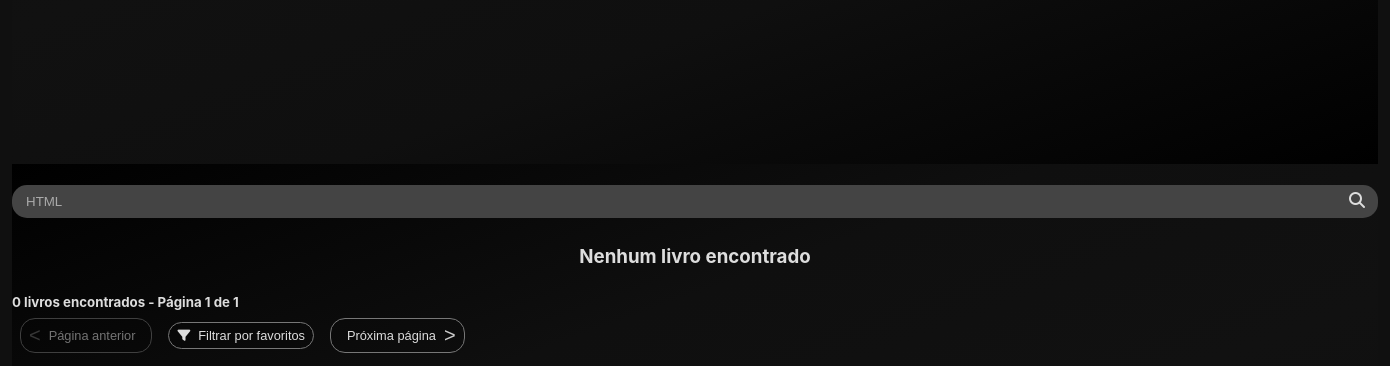
it: <BookList /> › Layout › deve mostrar uma mensagem informando que o usuário deve preencher o campo de pesquisa
This screenshot has width=1390, height=366.
(page scrolled)
Clear the field with id "book-query" at (695, 202), box [12,185,1378,218]
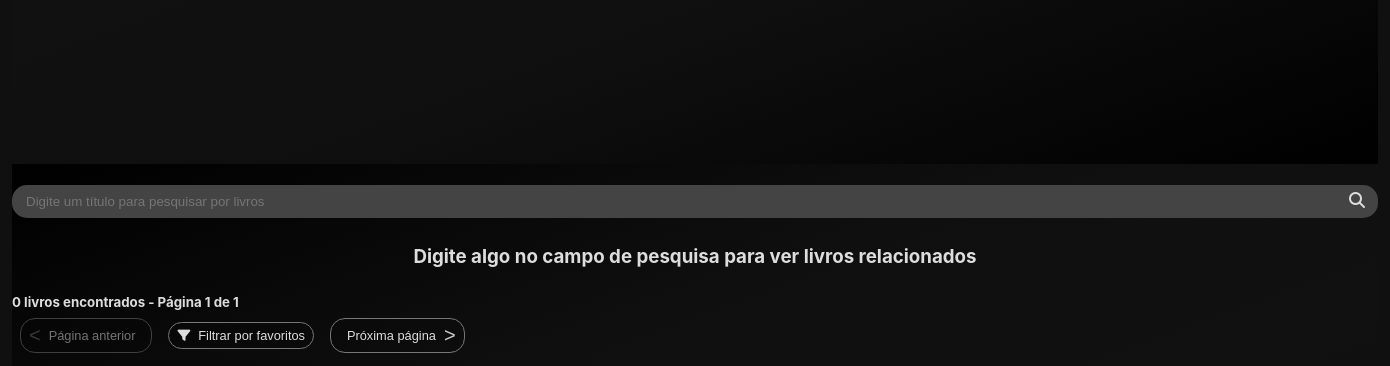
Result: the 1st heading reads "Digite algo no campo de pesquisa para ver livros relacionados" at [413,245,977,268]
